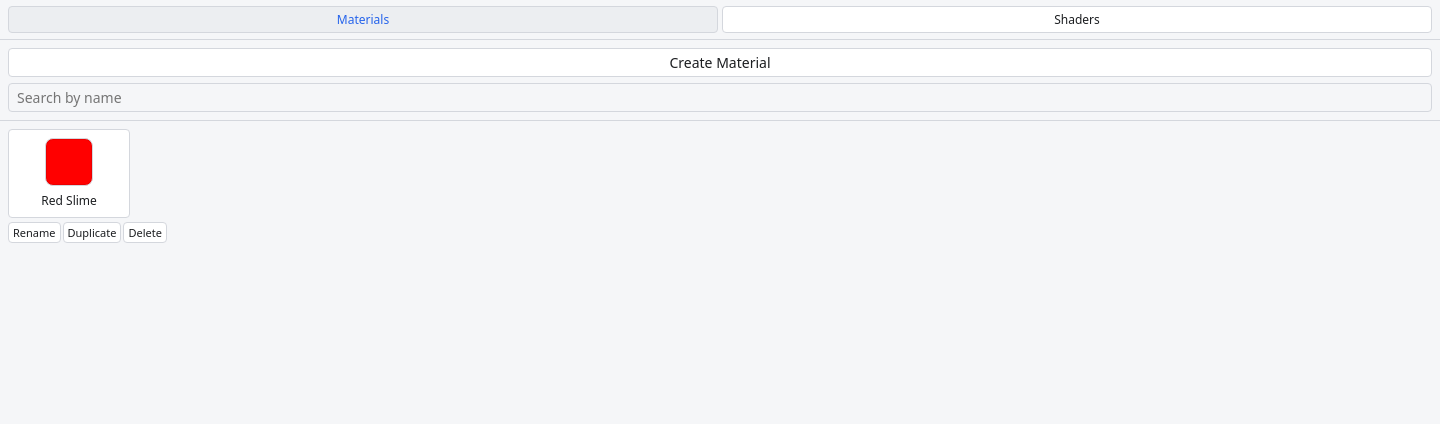
Test case: material definition panel › assigns a shader to the material and shows its uniforms in the parameter list
expect the text "Red Slime" is shown: met, box [41,192,97,209]
Click the button with aria-label "Select Red Slime" at (69, 174), box [8,129,130,218]
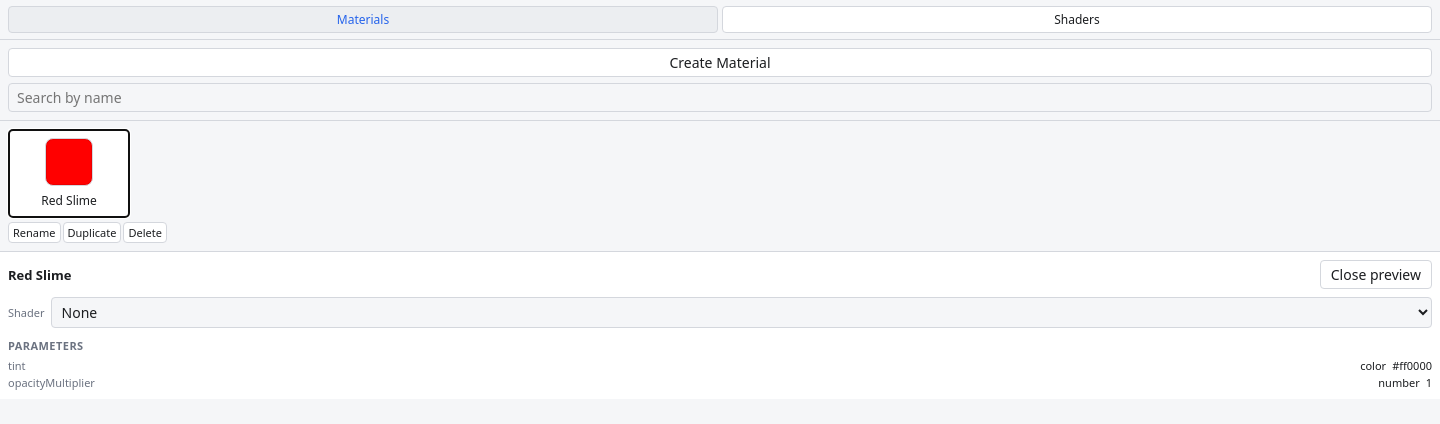
Select "Ink Wash (Compiled)" in the dropdown labelled "Shader" at (741, 312), box [50,297,1432,328]
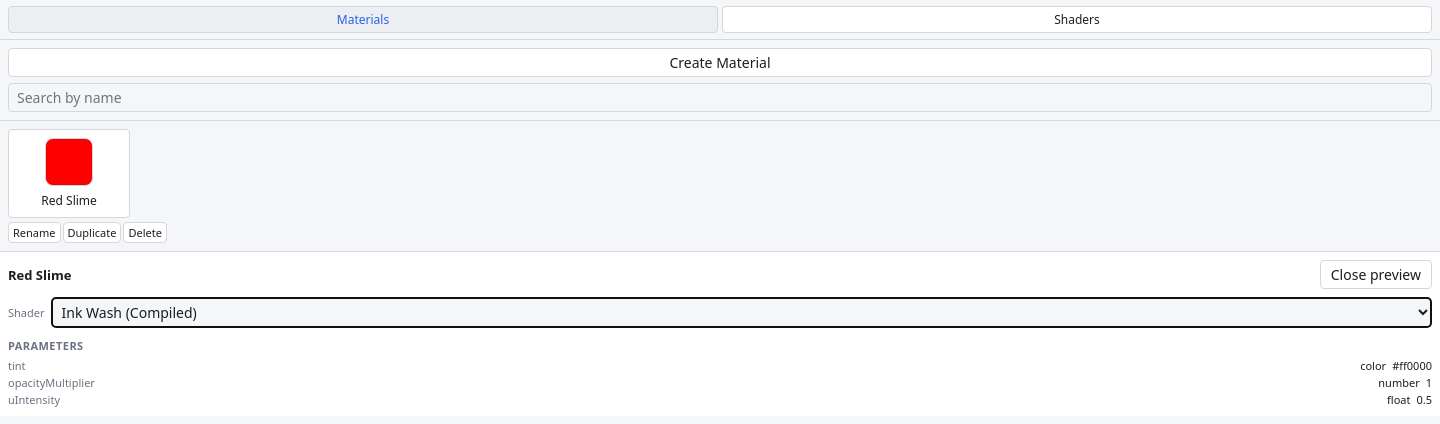
expect the element named "Material definition" shows "uIntensity": met, box [8,392,60,407]
expect the element named "Material definition" shows "float": met, box [1387,392,1410,407]
expect the element named "Material definition" shows "0.5": met, box [1416,392,1432,407]
